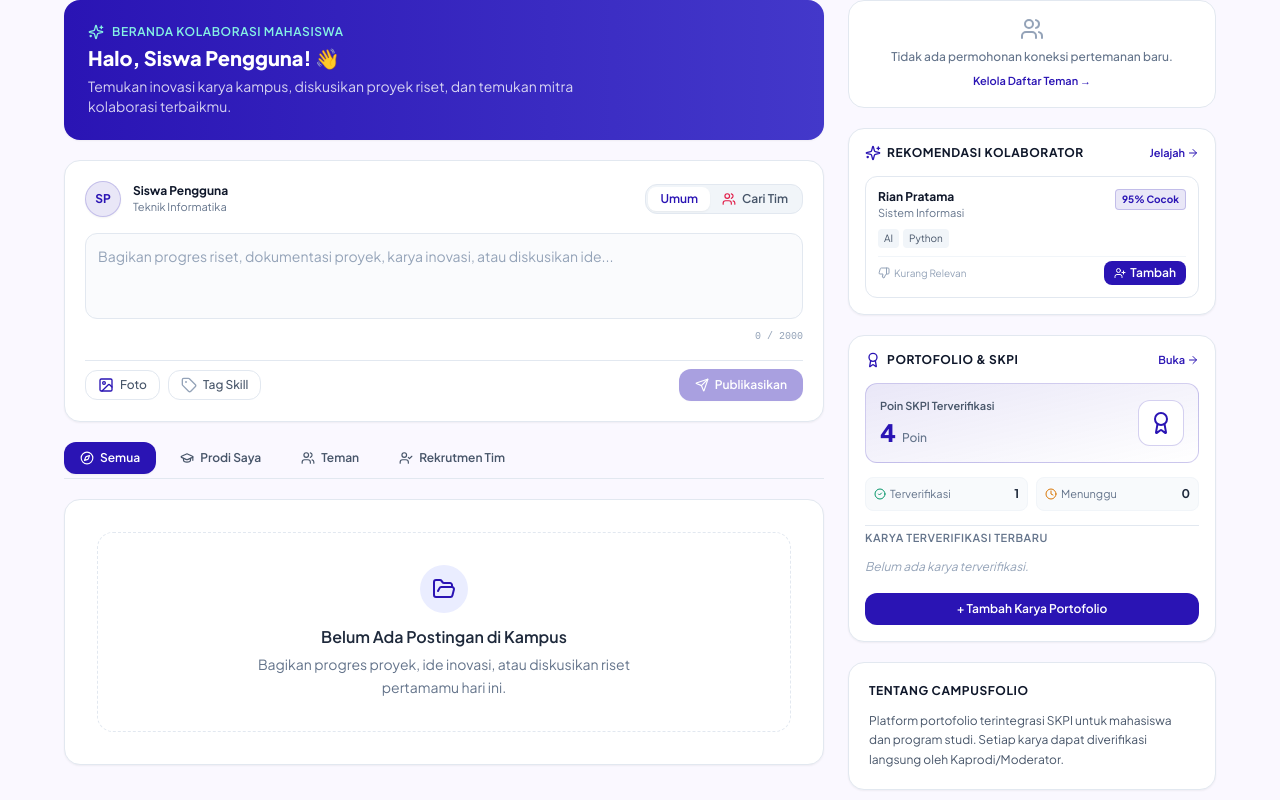
Test case: M11 Home Dashboard Integration Tests (/home) › handles interactions: sends friend request and submits feedback in Mini AI widget
The width and height of the screenshot is (1280, 800).
Check: the link "Rian Pratama" is shown, box [878,188,964,204]
// Send friend request via Mini AI Widget
Click the button with test id "btn-add-friend-202" at (1145, 273), box [1104,261,1186,285]
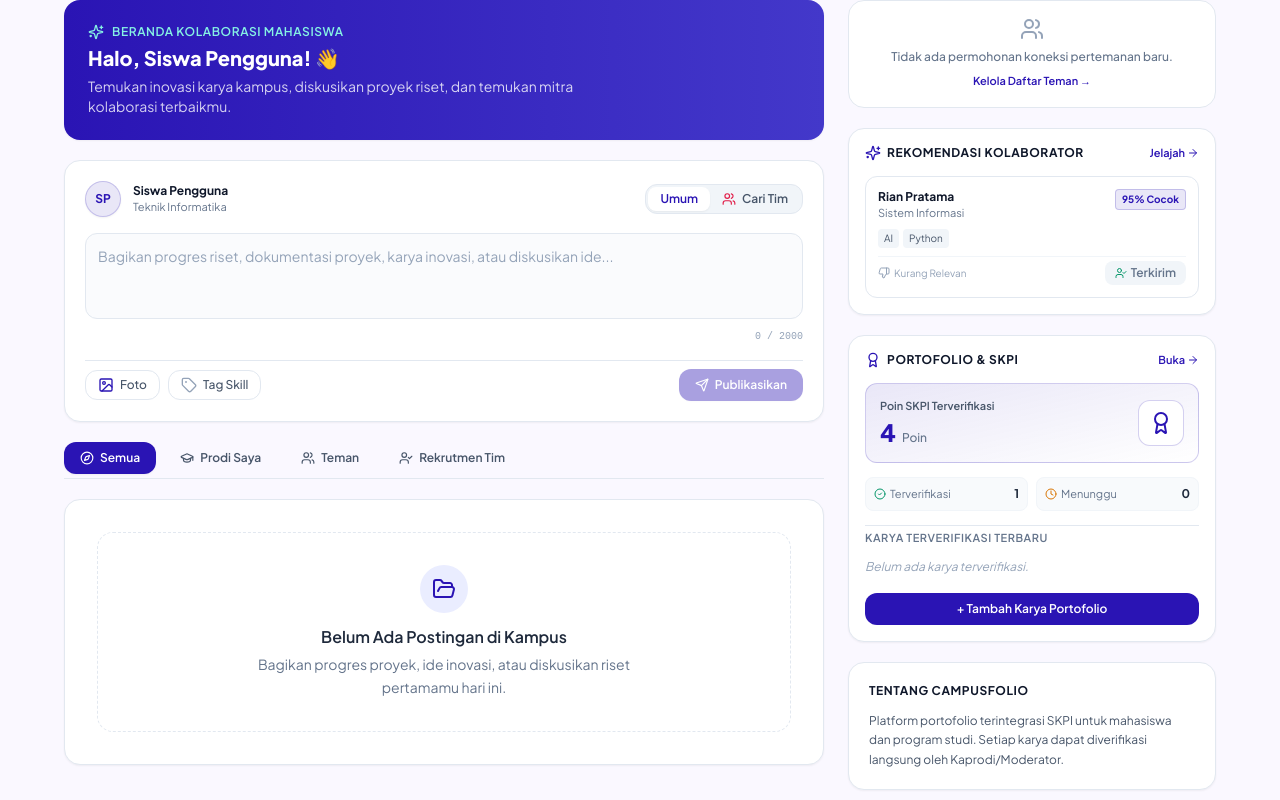
Check: the text "Terkirim" is shown, box [1131,265,1176,281]
// Submit "Kurang Relevan" feedback
Click the button titled "Tandai kurang relevan" at (922, 273), box [878,266,966,280]
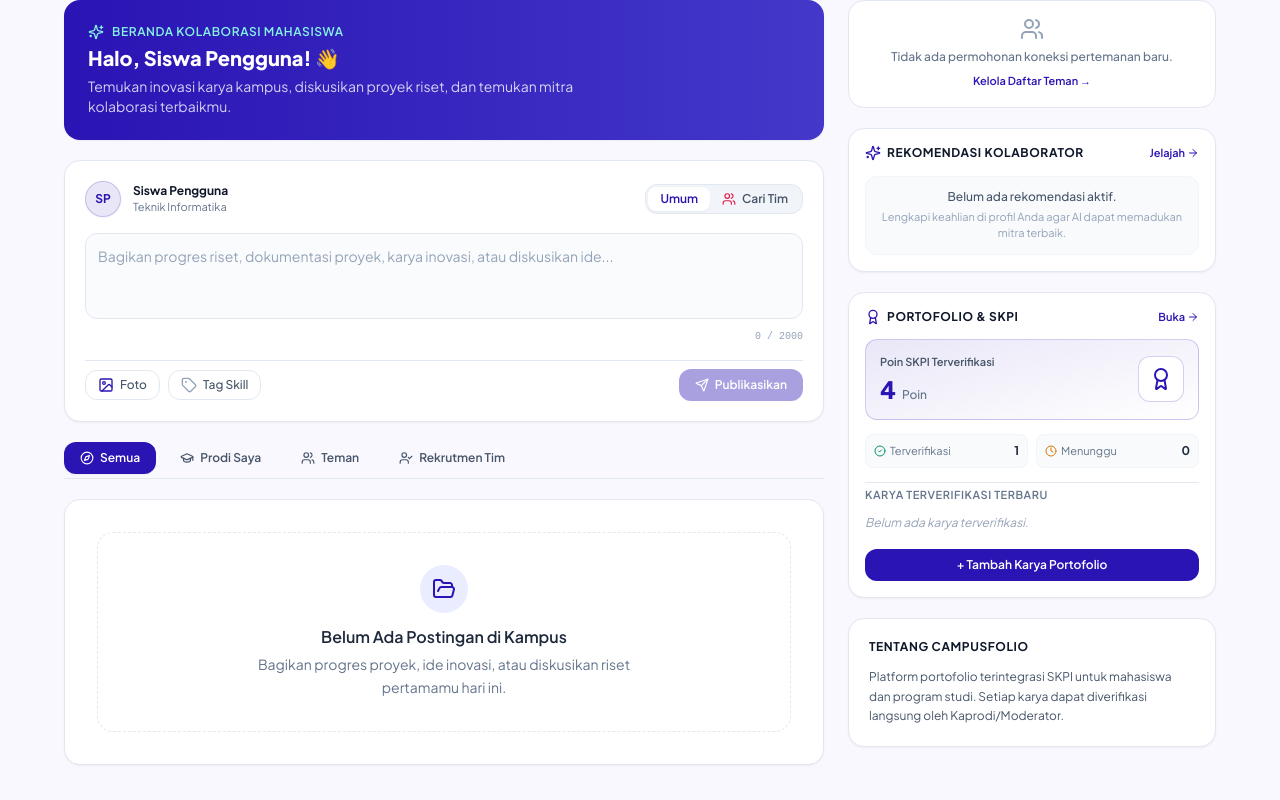
Check: the link "Rian Pratama" is gone
